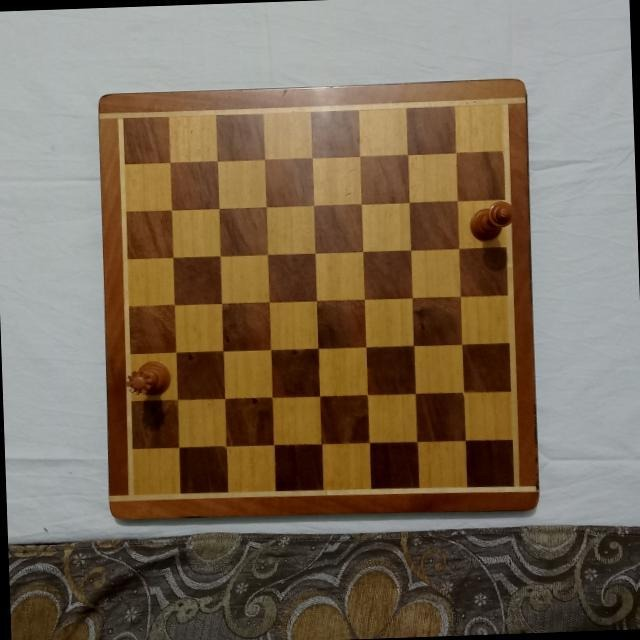white-king: (468, 201, 515, 243)
white-queen: (125, 359, 175, 401)
